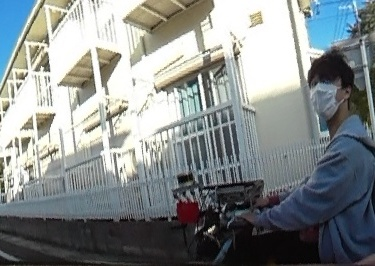person: (270, 48, 373, 265)
